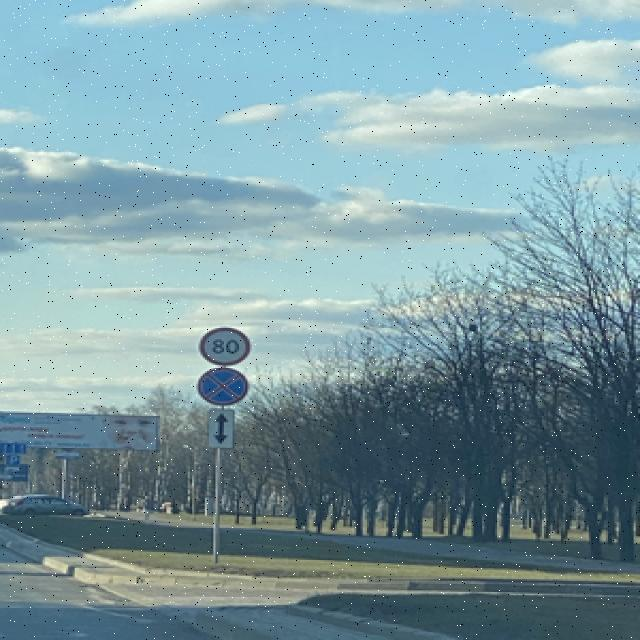Speedlimit: (196, 325, 252, 365)
